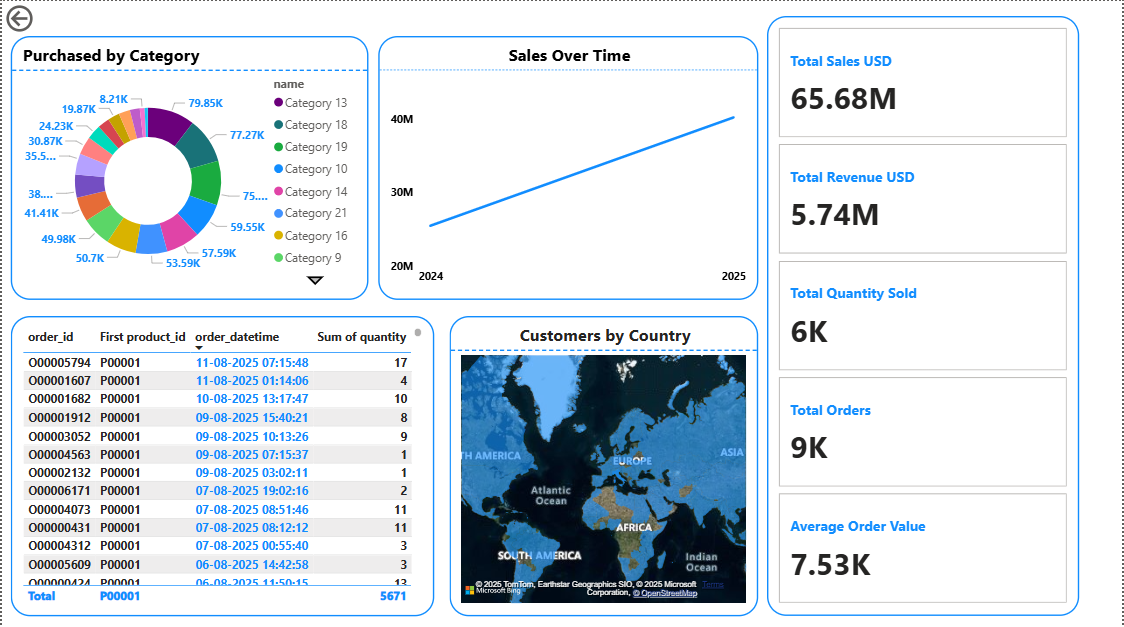

The dashboard page shown, as its layout file describes it:
{"tool":"powerbi","page":{"name":"Customers Details","canvas":[1280,720],"ordinal":4},"visuals":[{"type":"actionButton","box":[0,0,100,40],"z":0},{"type":"cardVisual","fields":{"Data":["ecom_maang categories.Total Sales USD","ecom_maang categories.Total Revenue USD","ecom_maang categories.Total Quantity Sold","ecom_maang categories.Total Orders","ecom_maang categories.Average Order Value"]},"box":[874.3,40.4,358.3,661.6],"z":1000},{"type":"lineChart","title":"Sales Over Time","fields":{"Category":["ecom_maang orders.order_datetime.Variation.Date Hierarchy.Year","ecom_maang orders.order_datetime.Variation.Date Hierarchy.Quarter","ecom_maang orders.order_datetime.Variation.Date Hierarchy.Month","ecom_maang orders.order_datetime.Variation.Date Hierarchy.Day"],"Y":["ecom_maang categories.Total Sales USD"]},"box":[430,40,434.3,301.4],"z":2000},{"type":"donutChart","title":"Purchased by Category","fields":{"Category":["ecom_maang categories.name"],"Y":["ecom_maang categories.Total Sales USD"]},"box":[10,40,408.6,301.4],"z":3000},{"type":"tableEx","fields":{"Values":["ecom_maang orders.order_id","ecom_maang products.product_id","ecom_maang orders.order_datetime","Sum(ecom_maang order_items.quantity)"]},"box":[10,360,484.3,342.9],"z":4000},{"type":"filledMap","title":"Customers by Country","fields":{"Category":["ecom_maang customers.country","ecom_maang warehouses.city"]},"box":[511.4,360,352.9,342.9],"z":5000}]}

Visuals, with their boxes in screenshot pixels (x1, y1, x2, y2), scaled from the page's 1280x720 canvas onto the 1124x627 screenshot:
actionButton: crop(0, 0, 88, 35)
cardVisual - ecom_maang categories.Total Sales USD x ecom_maang categories.Total Revenue USD: crop(768, 35, 1082, 611)
"Sales Over Time" lineChart: crop(378, 35, 759, 297)
"Purchased by Category" donutChart: crop(9, 35, 368, 297)
tableEx - ecom_maang orders.order_id x ecom_maang products.product_id: crop(9, 314, 434, 612)
"Customers by Country" filledMap: crop(449, 314, 759, 612)
